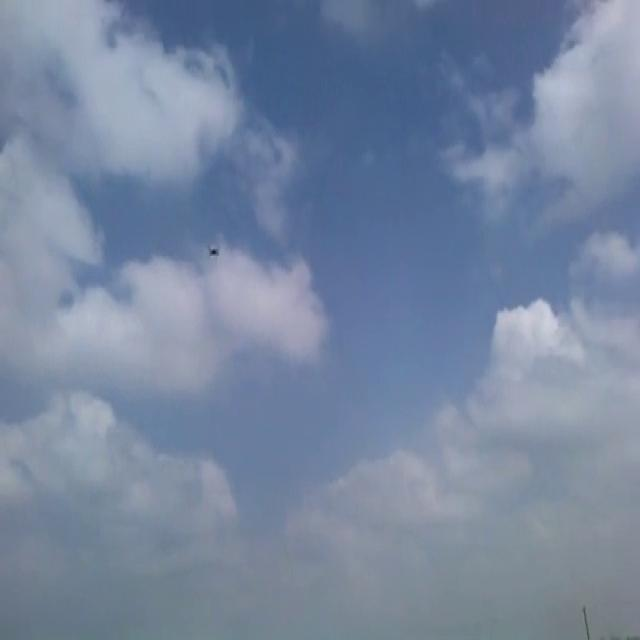drone: (206, 242, 221, 260)
